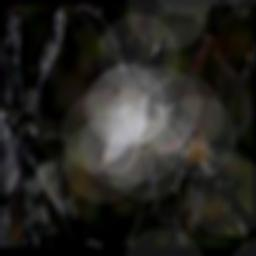Cuckoo: (90, 35, 173, 174)
